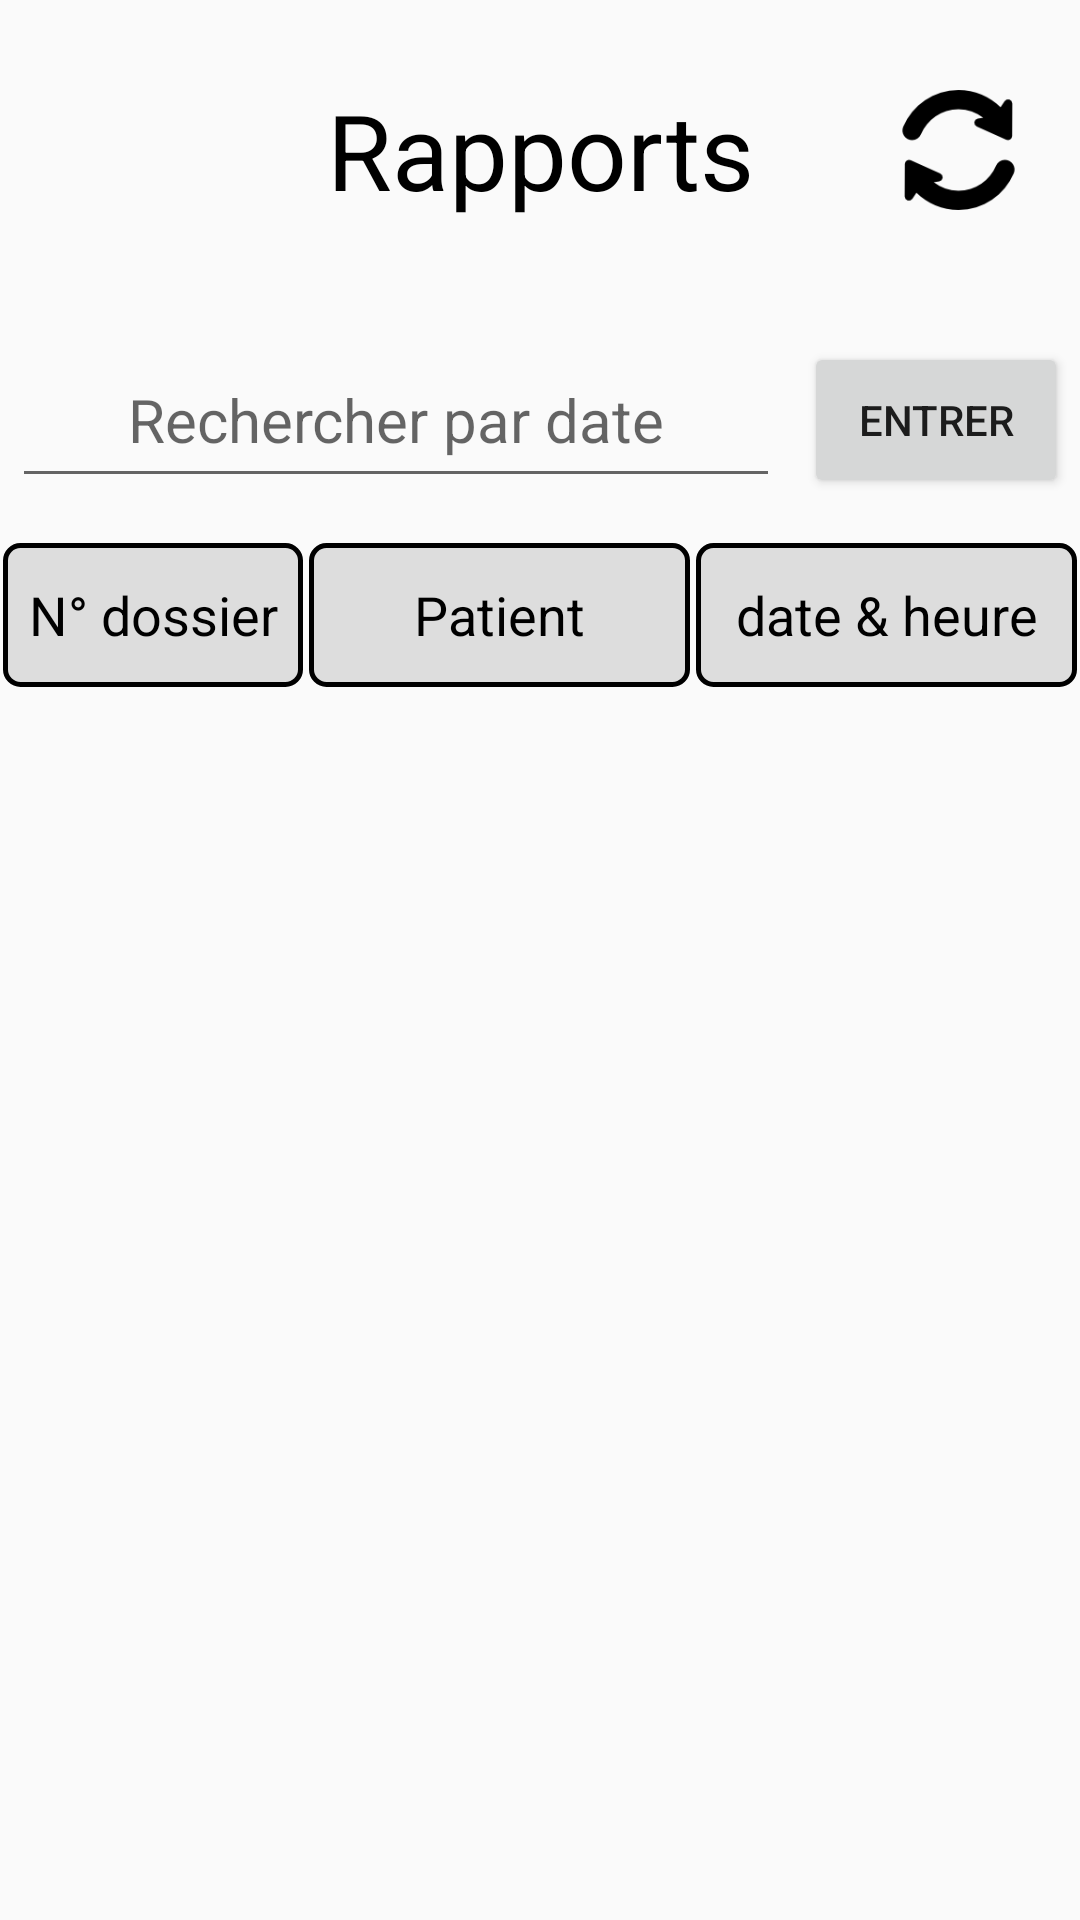

Icon bounding boxes for this 1080 x 1920 phone screenshot, format (x1, y1, x2, y2):
refresh: (902, 90, 1015, 210)
